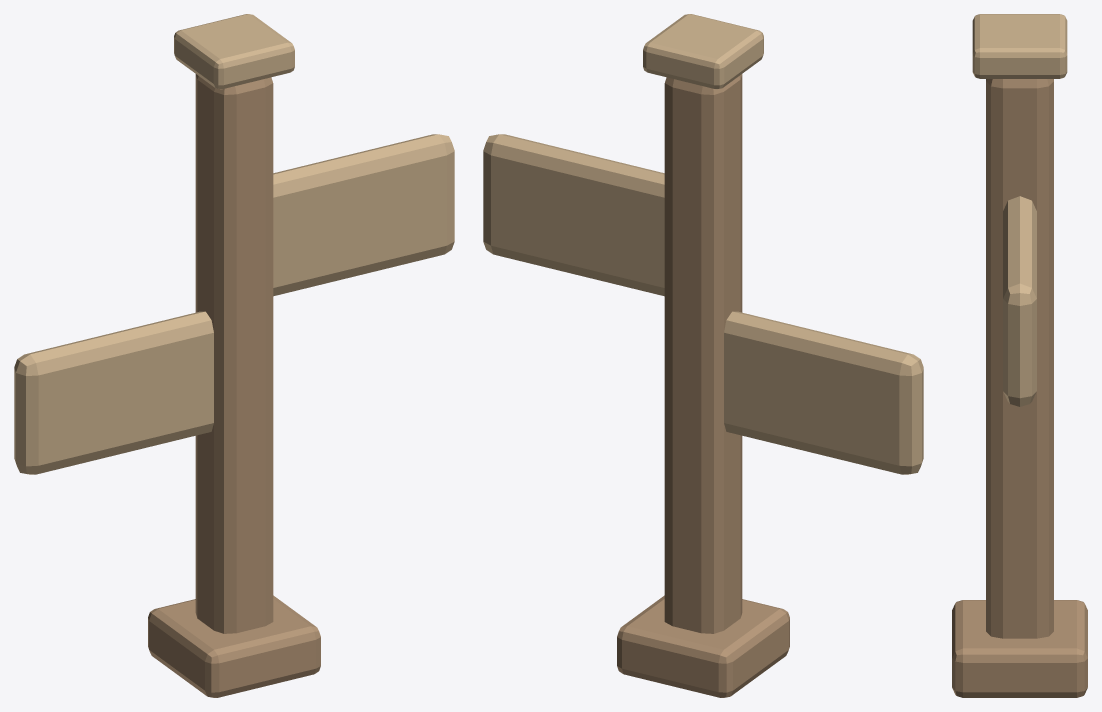
Rendered from signpost.glb.
3 renders of one model, left to right at view 1: azimuth 30°, elevation 25°; view 2: azimuth 150°, elevation 25°; view 3: azimuth 270°, elevation 25°, orthographic. The views are drawn at different scales.
Parts seen in each view (by area): view 1: Post, Arrow2, Arrow, Stone, Cap; view 2: Post, Arrow2, Arrow, Stone, Cap; view 3: Post, Stone, Arrow, Cap.
Part boxes in pixels (x1=…): Post: x1=195, y1=74, x2=273, y2=633; Arrow2: x1=14, y1=311, x2=213, y2=474; Arrow: x1=273, y1=134, x2=454, y2=296; Stone: x1=148, y1=595, x2=320, y2=697; Cap: x1=174, y1=14, x2=294, y2=89; Post: x1=664, y1=74, x2=742, y2=633; Arrow2: x1=724, y1=311, x2=923, y2=474; Arrow: x1=483, y1=134, x2=664, y2=296; Stone: x1=617, y1=595, x2=789, y2=697; Cap: x1=643, y1=14, x2=763, y2=89; Post: x1=986, y1=79, x2=1053, y2=638; Stone: x1=952, y1=600, x2=1087, y2=697; Arrow: x1=1003, y1=196, x2=1036, y2=406; Cap: x1=972, y1=14, x2=1067, y2=78.
Size of the model in its own units: 0.76 by 1.04 by 0.2.
